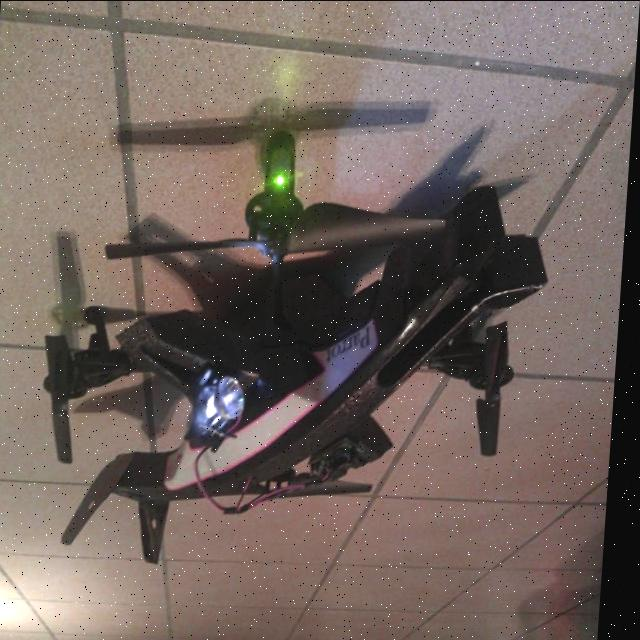drone: (20, 111, 538, 541)
